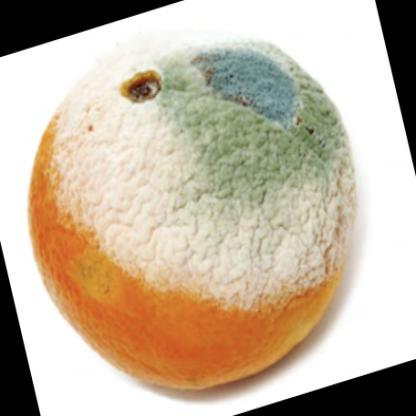rotten_orange: (28, 28, 362, 396)
